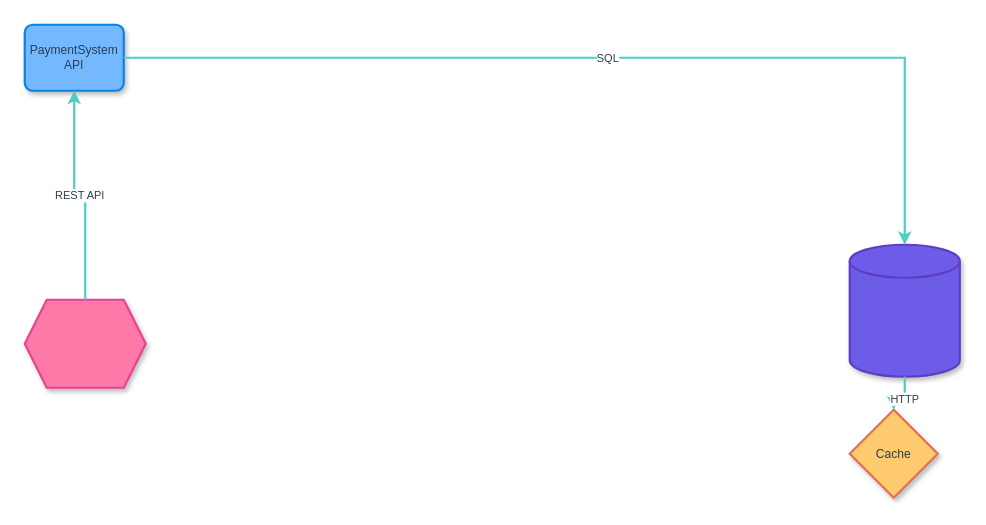
This 986x525 diagram has some shape labels left out. Here are the shapes that lost their labels. From the top down, the centre of each, then its label:
(905,312): PaymentSystem DB
(86,345): PaymentSystem
